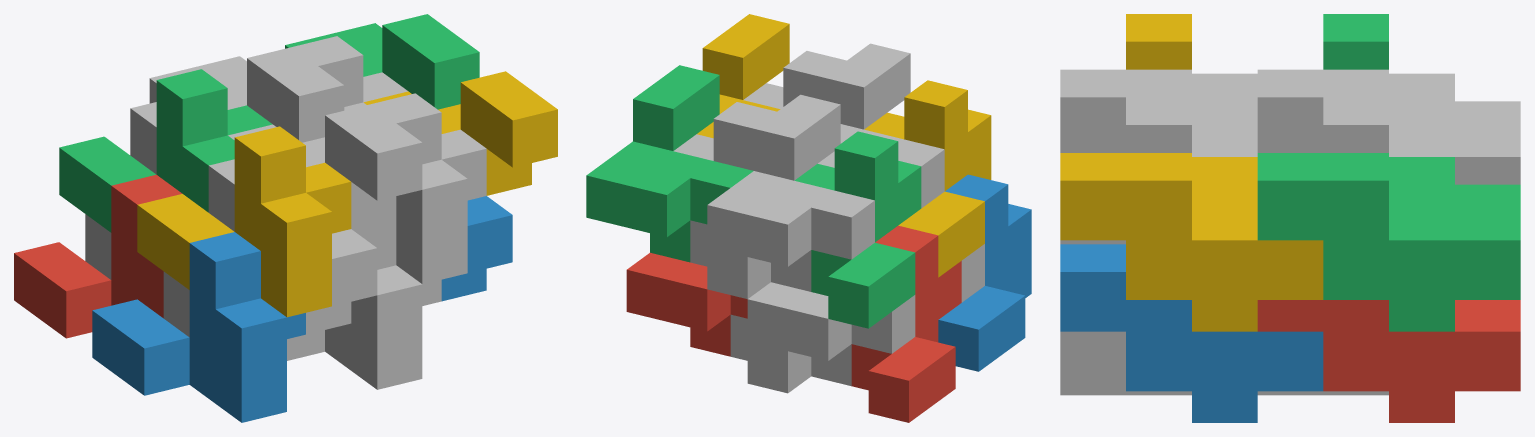
Rendered from tiling.obj.
3 renders of one model, left to right at view 1: azimuth 30°, elevation 25°; view 2: azimuth 150°, elevation 25°; view 3: azimuth 270°, elevation 25°, orthographic. The views are drawn at different scales.
Visible parts, largest first — view 1: copy_1_domain_2, copy_1_domain_4, copy_1_domain_3, copy_1_domain_1, copy_1_domain_8, copy_1_domain_6, copy_2_domain_4, copy_2_domain_3, copy_2_domain_8, copy_2_domain_7, copy_2_domain_2, copy_2_domain_6 (+2 smaller); view 2: copy_2_domain_3, copy_2_domain_7, copy_1_domain_3, copy_1_domain_1, copy_1_domain_4, copy_1_domain_2, copy_2_domain_1, copy_2_domain_4, copy_2_domain_5, copy_1_domain_7, copy_2_domain_8, copy_1_domain_5 (+2 smaller); view 3: copy_2_domain_7, copy_2_domain_8, copy_2_domain_6, copy_2_domain_5, copy_2_domain_3, copy_2_domain_4, copy_1_domain_6, copy_1_domain_8, copy_1_domain_3, copy_1_domain_4, copy_1_domain_7, copy_1_domain_5.
Part boxes in pixels (left/top/right/bottom): copy_1_domain_2: left=92, top=232, right=305, bottom=422; copy_1_domain_4: left=137, top=126, right=351, bottom=317; copy_1_domain_3: left=59, top=69, right=272, bottom=232; copy_1_domain_1: left=14, top=174, right=182, bottom=338; copy_1_domain_8: left=371, top=93, right=486, bottom=284; copy_1_domain_6: left=287, top=218, right=441, bottom=389; copy_2_domain_4: left=208, top=104, right=422, bottom=231; copy_2_domain_3: left=130, top=47, right=344, bottom=174; copy_2_domain_8: left=363, top=71, right=557, bottom=195; copy_2_domain_7: left=285, top=14, right=479, bottom=109; copy_2_domain_2: left=163, top=229, right=377, bottom=337; copy_2_domain_6: left=441, top=196, right=512, bottom=301; copy_2_domain_3: left=707, top=94, right=874, bottom=291; copy_2_domain_7: left=586, top=65, right=753, bottom=262; copy_1_domain_3: left=794, top=131, right=921, bottom=328; copy_1_domain_1: left=851, top=225, right=961, bottom=422; copy_1_domain_4: left=864, top=80, right=991, bottom=277; copy_1_domain_2: left=938, top=174, right=1031, bottom=371; copy_2_domain_1: left=747, top=282, right=915, bottom=386; copy_2_domain_4: left=818, top=43, right=944, bottom=208; copy_2_domain_5: left=626, top=252, right=747, bottom=356; copy_1_domain_7: left=673, top=102, right=776, bottom=298; copy_2_domain_8: left=697, top=14, right=789, bottom=138; copy_1_domain_5: left=730, top=314, right=811, bottom=393; copy_2_domain_7: left=1257, top=153, right=1520, bottom=331; copy_2_domain_8: left=1060, top=153, right=1323, bottom=331; copy_2_domain_6: left=1060, top=244, right=1323, bottom=422; copy_2_domain_5: left=1257, top=300, right=1520, bottom=422; copy_2_domain_3: left=1257, top=69, right=1520, bottom=184; copy_2_domain_4: left=1060, top=69, right=1257, bottom=156; copy_1_domain_6: left=1060, top=331, right=1191, bottom=395; copy_1_domain_8: left=1060, top=97, right=1191, bottom=244; copy_1_domain_3: left=1323, top=14, right=1388, bottom=69; copy_1_domain_4: left=1126, top=14, right=1191, bottom=69; copy_1_domain_7: left=1323, top=97, right=1388, bottom=152; copy_1_domain_5: left=1257, top=391, right=1388, bottom=395.
Bounding box in the file's own units: 8 × 5 × 7.
